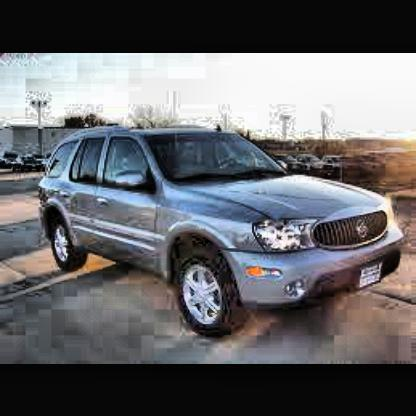Buick Rainier SUV 2007: (41, 130, 405, 338)
